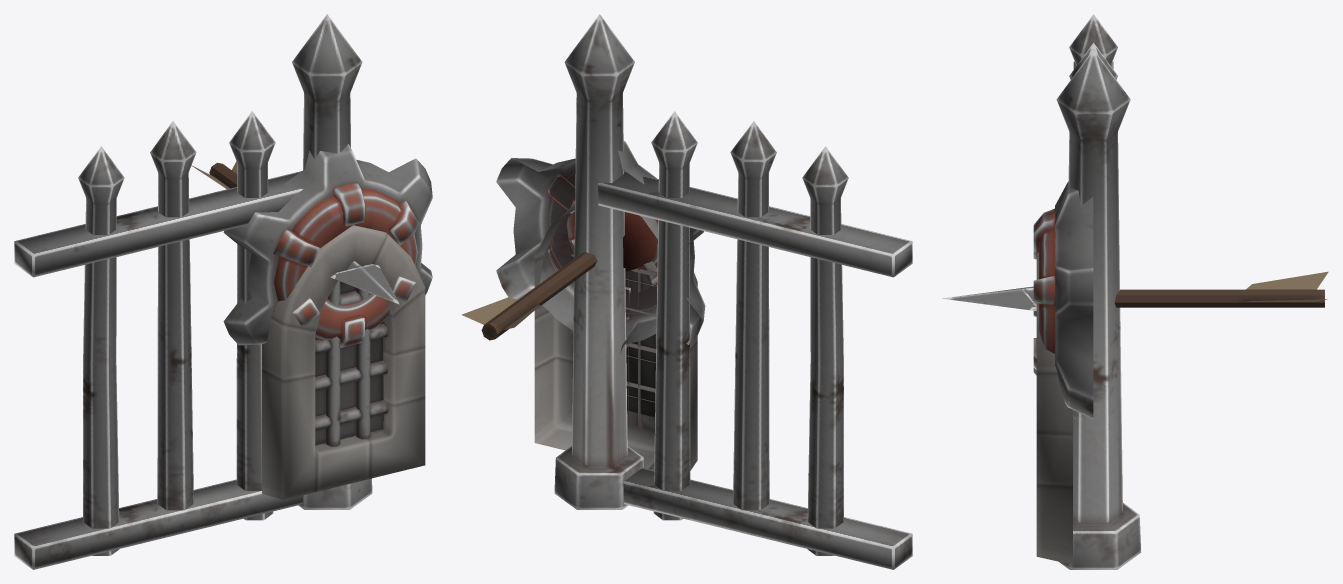
Rendered from decor2_exp1.fbx.
3 renders of one model, left to right at view 1: azimuth 30°, elevation 25°; view 2: azimuth 150°, elevation 25°; view 3: azimuth 270°, elevation 25°, orthographic. The views are drawn at different scales.
Parts seen in each view (by area): view 1: metalFence_pikes, tallWindow_low, wallShooter_low, metalFence_pole, wallShot_low; view 2: metalFence_pikes, metalFence_pole, wallShooter_low, tallWindow_low, wallShot_low; view 3: metalFence_pole, wallShooter_low, tallWindow_low, wallShot_low, metalFence_pikes.
Part boxes in pixels (x1=…): metalFence_pikes: x1=14, y1=111, x2=303, y2=569; tallWindow_low: x1=262, y1=225, x2=425, y2=499; wallShooter_low: x1=223, y1=144, x2=432, y2=347; metalFence_pole: x1=292, y1=14, x2=372, y2=509; wallShot_low: x1=191, y1=161, x2=399, y2=304; metalFence_pikes: x1=598, y1=111, x2=912, y2=569; metalFence_pole: x1=554, y1=14, x2=643, y2=509; wallShooter_low: x1=496, y1=141, x2=705, y2=352; tallWindow_low: x1=534, y1=204, x2=697, y2=470; wallShot_low: x1=461, y1=252, x2=597, y2=340; metalFence_pole: x1=1056, y1=49, x2=1141, y2=569; wallShooter_low: x1=1033, y1=181, x2=1093, y2=419; tallWindow_low: x1=1036, y1=252, x2=1072, y2=564; wallShot_low: x1=942, y1=271, x2=1328, y2=310; metalFence_pikes: x1=1069, y1=14, x2=1117, y2=79.
Size of the model in its own units: 269 by 304 by 211.
1 material, 1 textured.
